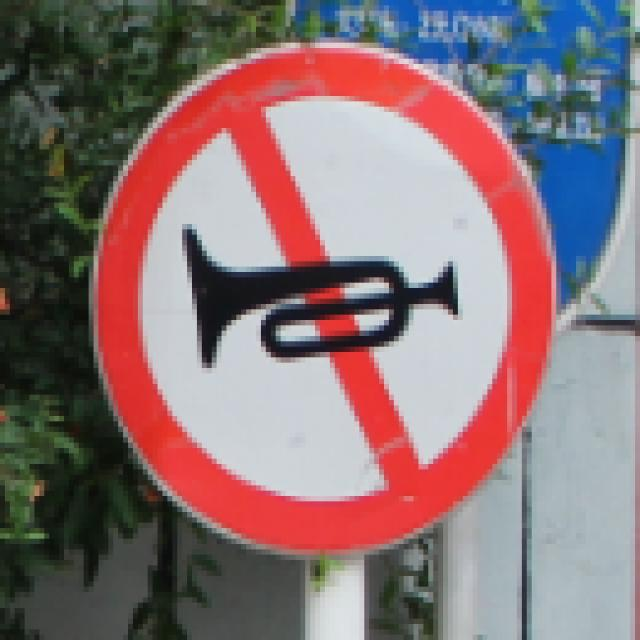No Horn: (95, 41, 557, 556)
